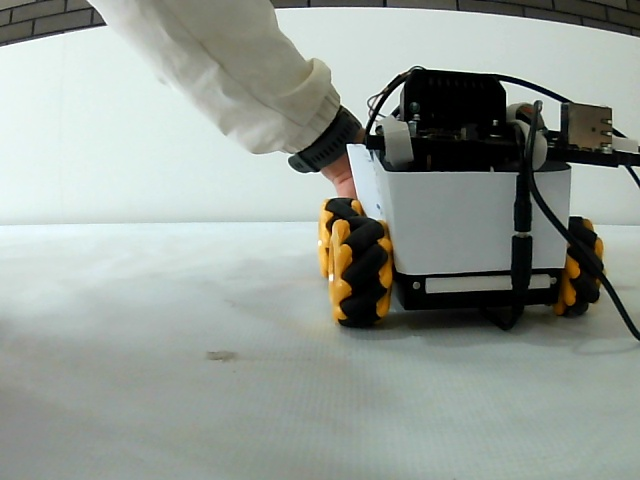car: (313, 67, 601, 329)
paper: (384, 172, 564, 270)
